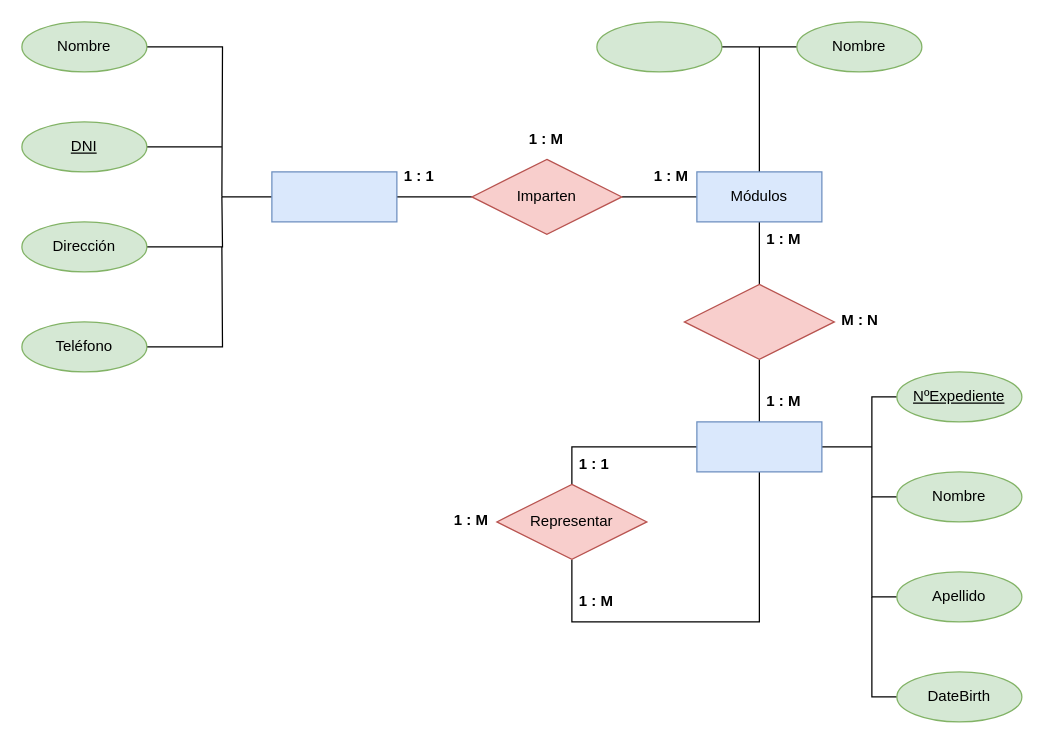
Image size: 1044x744. Some labels were removed from this diagram. The box of each missing label's shape, as (x1, y1, x2, y2) in pixels:
Alumno: (696, 421, 822, 472)
Cursan: (683, 283, 834, 359)
CódModulo: (596, 21, 722, 72)
Profesores: (271, 171, 397, 222)
